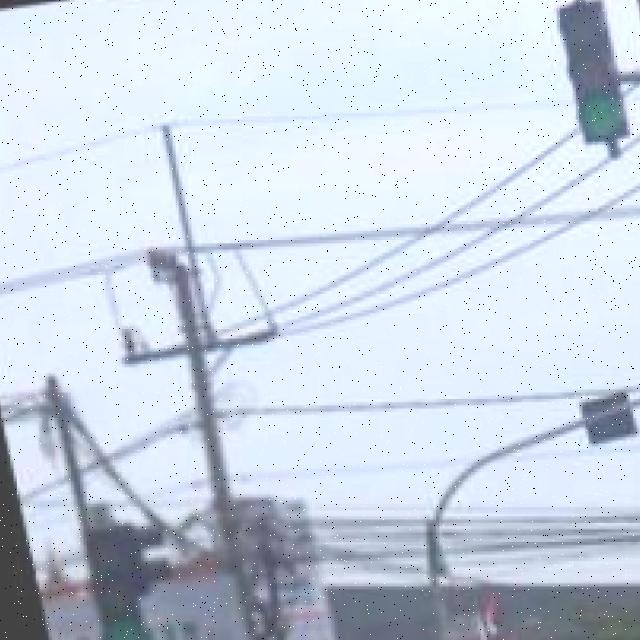Lampu Hijau: (549, 0, 633, 145), (70, 523, 146, 640)
